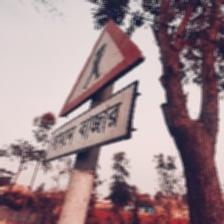Market-in-front: (44, 19, 144, 165)
